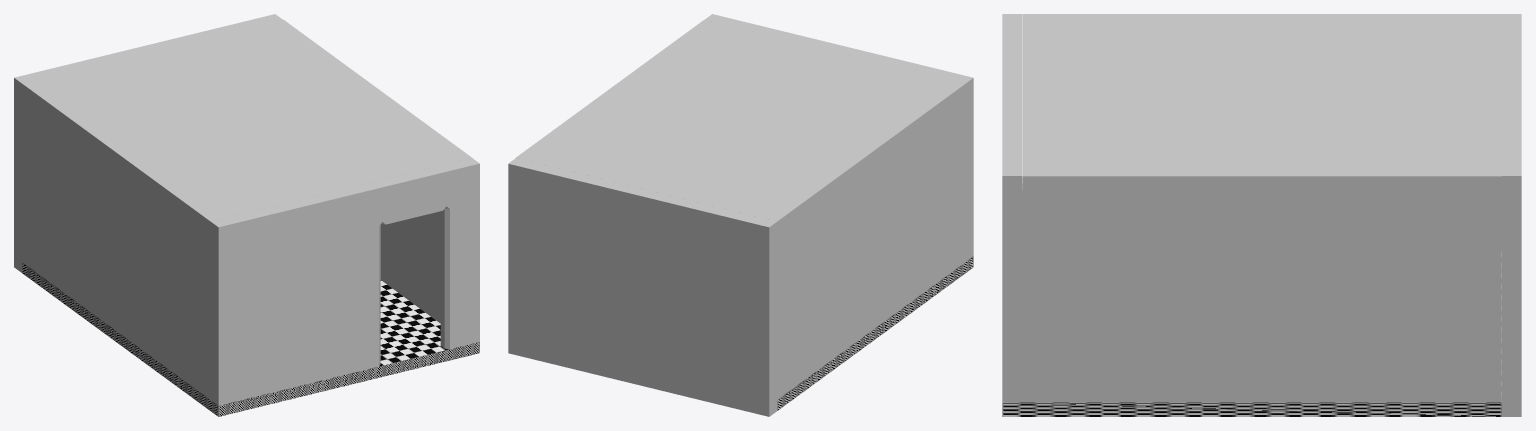
The model's file is roomRoom.fbx.
The picture shows the model from 3 angles, left to right: view 1: azimuth 30°, elevation 25°; view 2: azimuth 150°, elevation 25°; view 3: azimuth 270°, elevation 25°; orthographic projection. The views are drawn at different scales.
Parts seen in each view (by area): view 1: polySurface3; view 2: polySurface3; view 3: polySurface3.
Part boxes in pixels (<box>): polySurface3: <box>14,14,479,416</box>; polySurface3: <box>508,14,973,416</box>; polySurface3: <box>1002,14,1521,416</box>.
Bounding box in the file's own units: 492 × 341 × 666.
2 materials, 2 textured.
